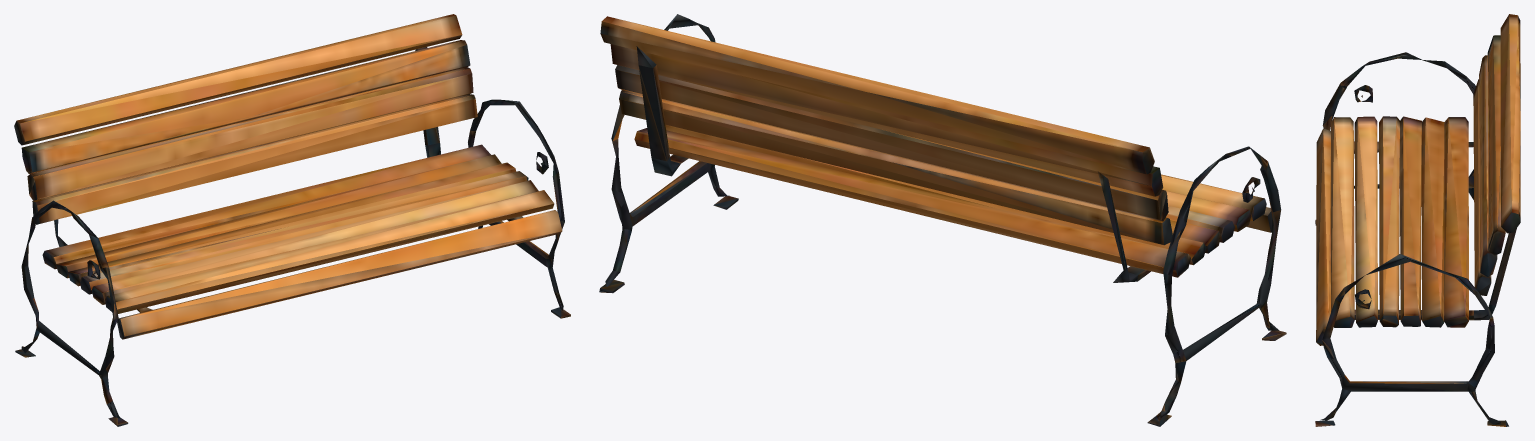
Rendered from park-bench.lod2.glb.
3 views of the same model, side by side, from view 1: azimuth 30°, elevation 25°; view 2: azimuth 150°, elevation 25°; view 3: azimuth 270°, elevation 25° (orthographic). The views are drawn at different scales.
Size of the model in its own units: 1.6 by 0.7639 by 0.6755.
Materials: 1 (1 with a texture image).
